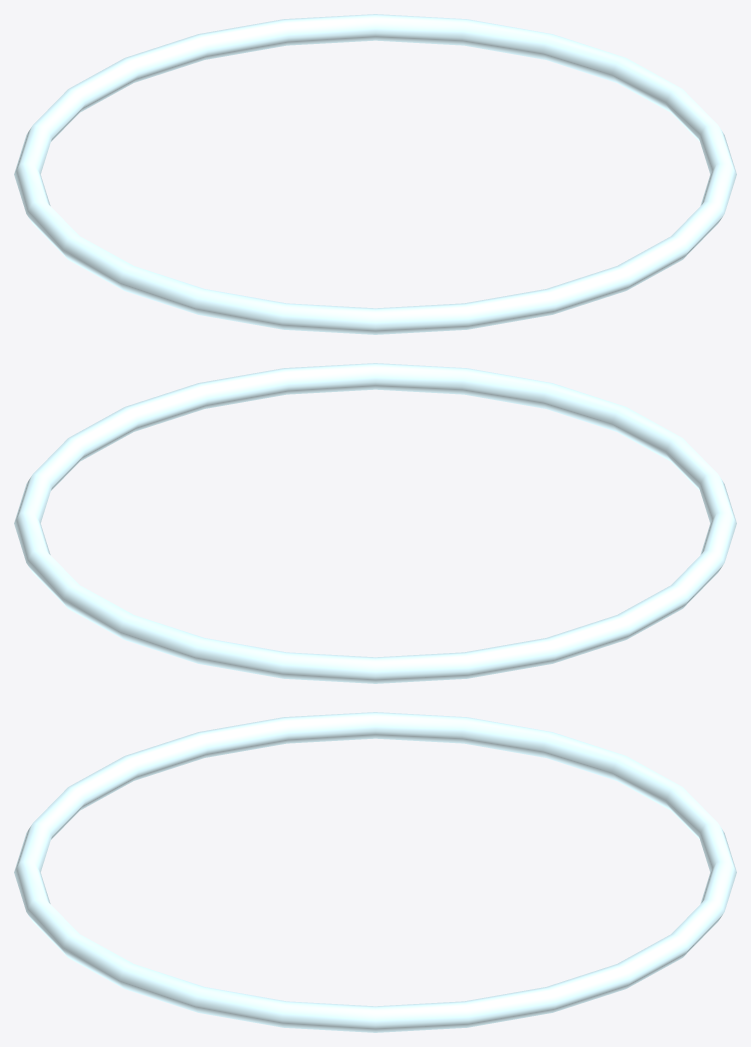
The model's file is ville_statue_anneau_a.glb.
3 views of the same model, one above another, from view 1: azimuth 30°, elevation 25°; view 2: azimuth 150°, elevation 25°; view 3: azimuth 270°, elevation 25° (orthographic).
Parts seen in each view (by area): view 1: statue_anneau_a; view 2: statue_anneau_a; view 3: statue_anneau_a.
Part boxes in pixels (x1=…): statue_anneau_a: x1=14, y1=14, x2=736, y2=334; statue_anneau_a: x1=14, y1=363, x2=736, y2=683; statue_anneau_a: x1=14, y1=712, x2=736, y2=1032.
Bounding box in the file's own units: 1.35 × 0.0433 × 1.35.
